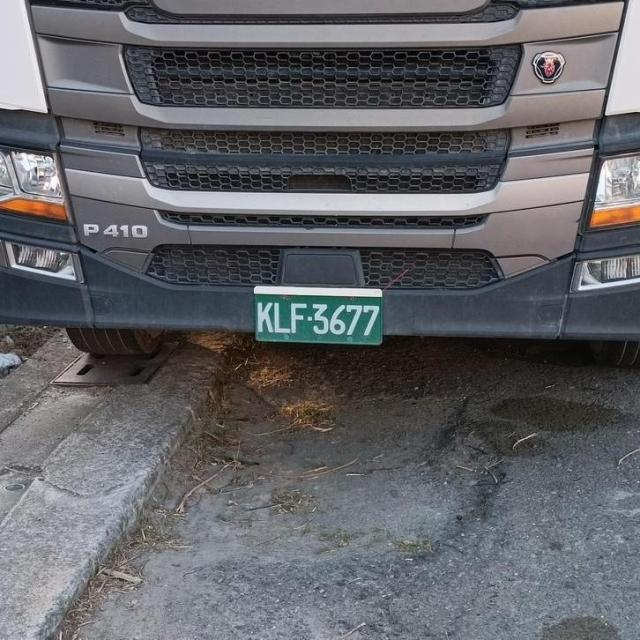GW: (241, 278, 395, 359)
